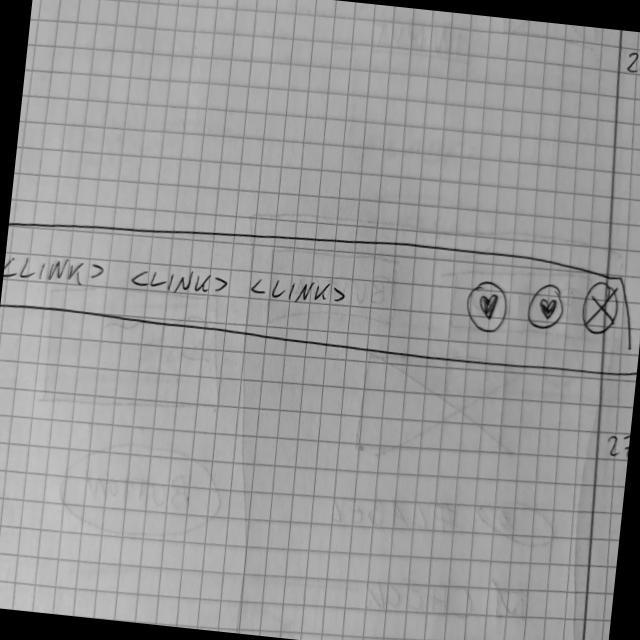container: (1, 196, 640, 385)
icon-button: (462, 276, 512, 338), (524, 281, 570, 335)
image: (580, 277, 625, 340)
link: (3, 250, 110, 295), (127, 261, 233, 304), (248, 271, 352, 313)
